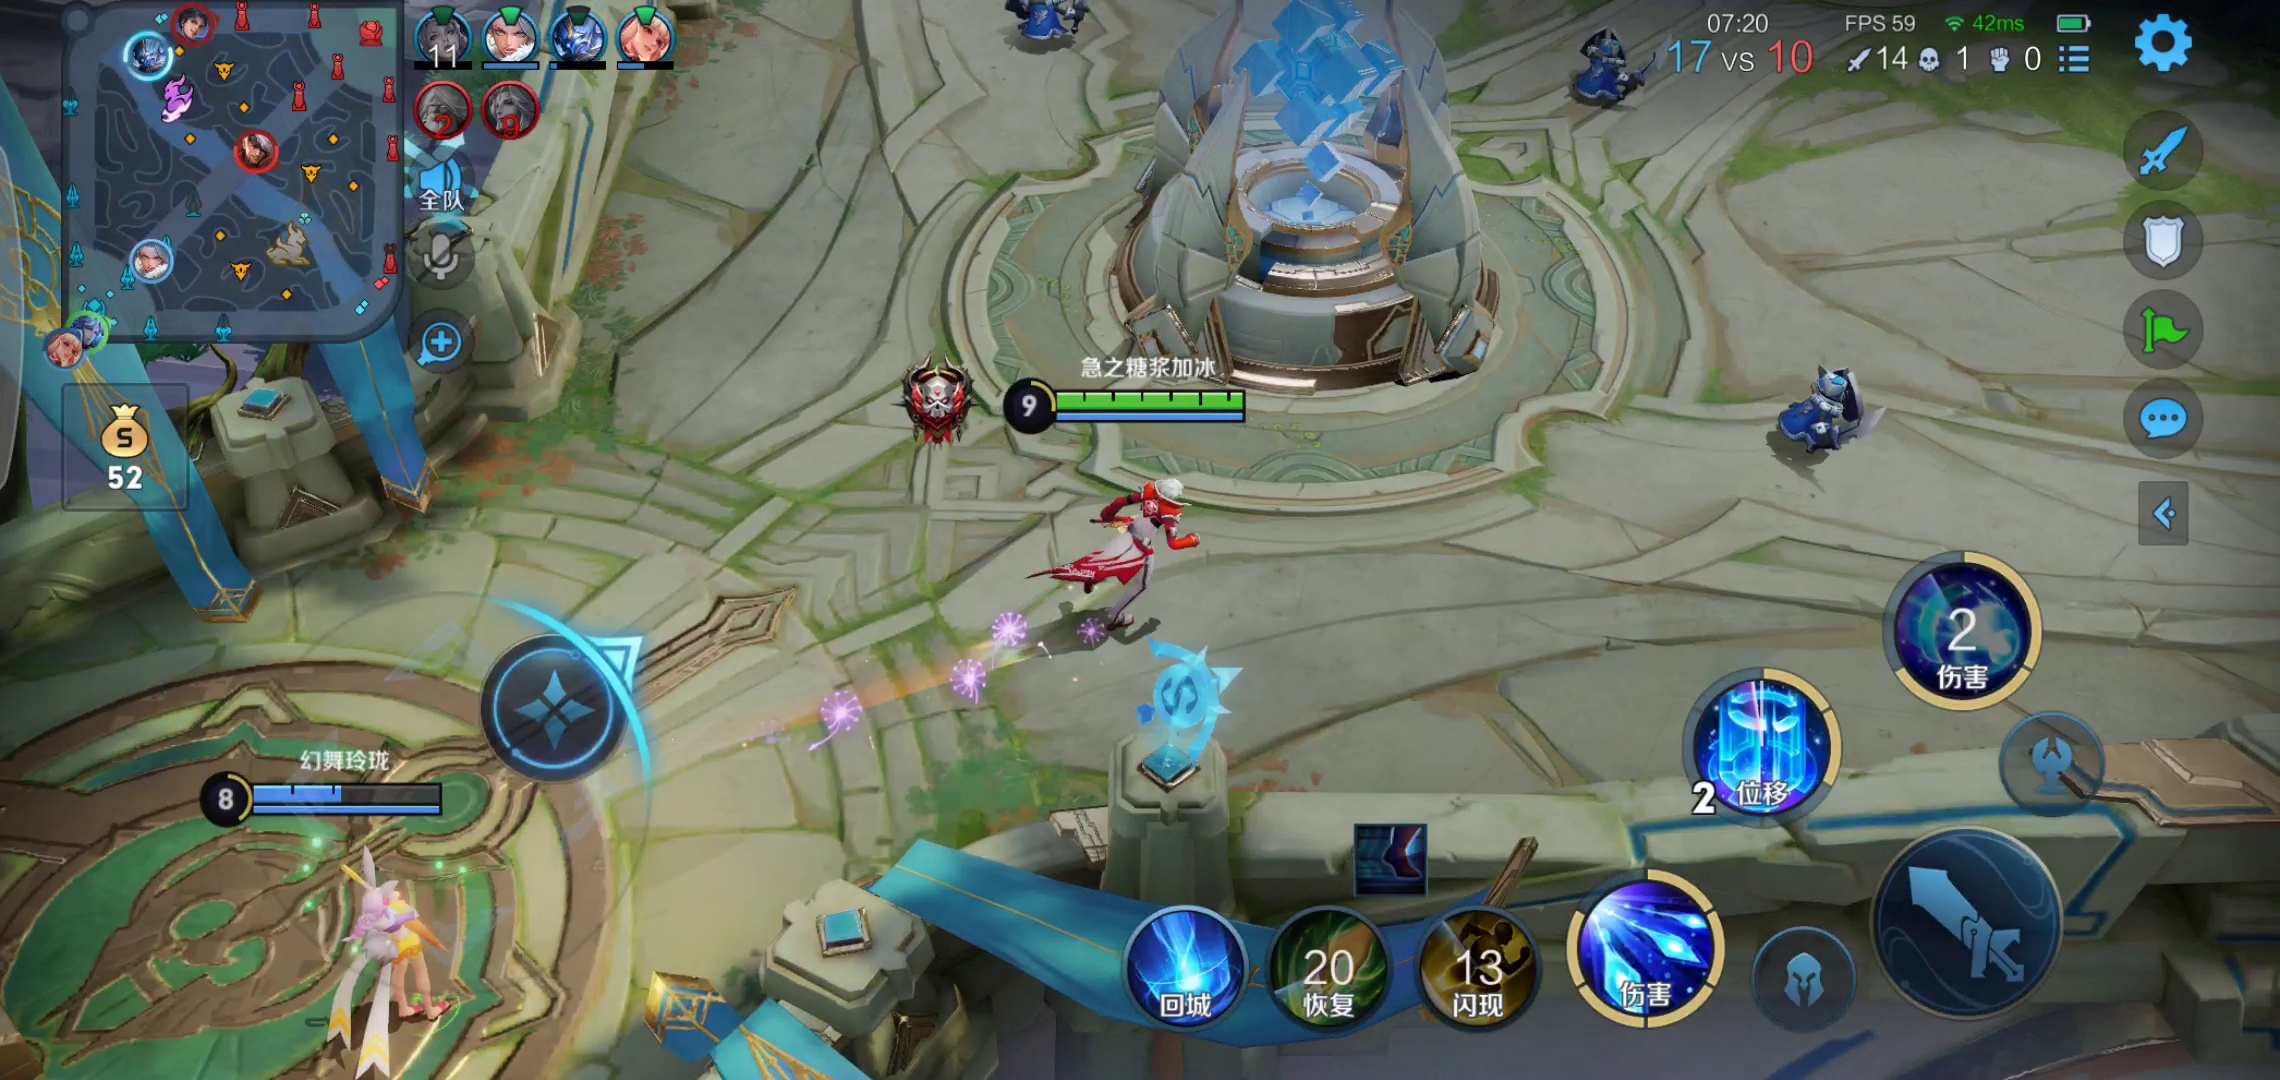crystal: (1088, 1, 1517, 406)
hero: (284, 834, 507, 1080), (1048, 461, 1217, 637)
soldier: (1757, 359, 1895, 468), (1565, 23, 1663, 125), (997, 1, 1120, 60)
